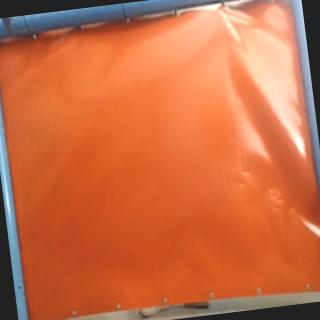Hit-hRxx: (212, 5, 225, 18)
